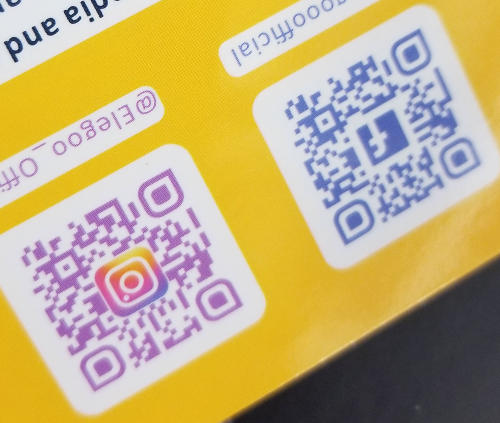QR_CODE: (15, 144, 255, 399), (277, 20, 491, 249)
